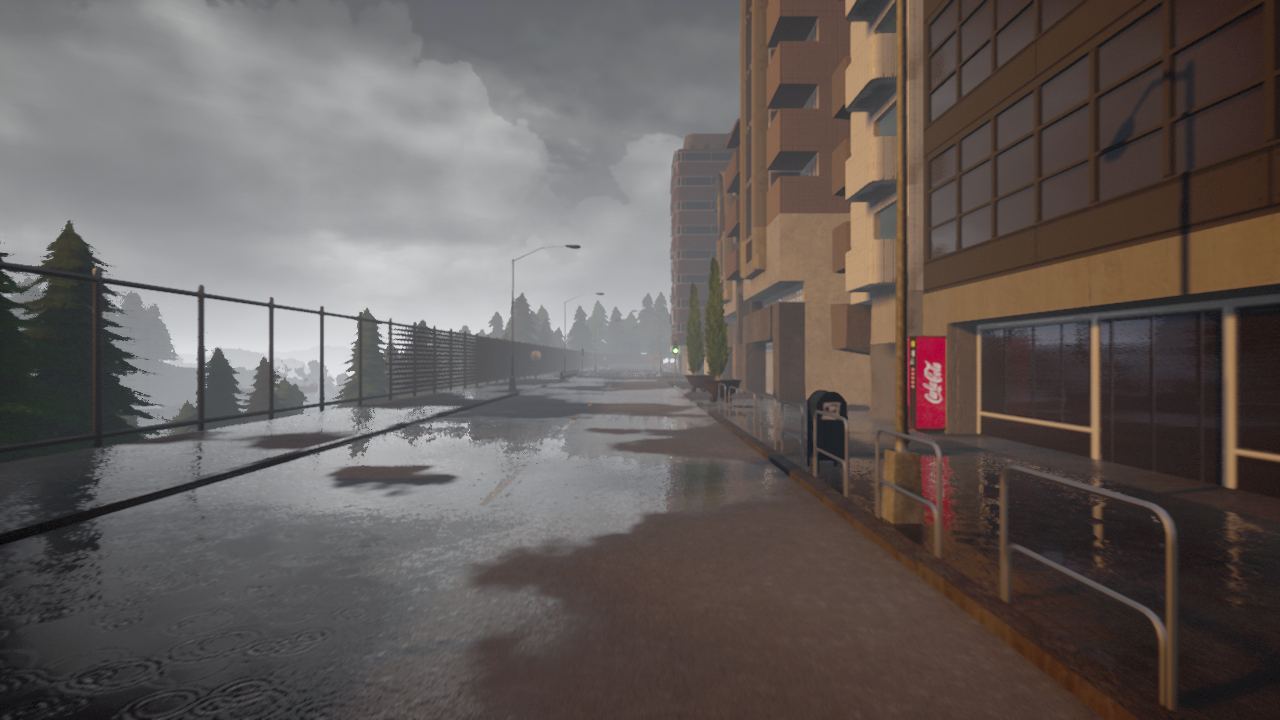green: (672, 340, 678, 354)
